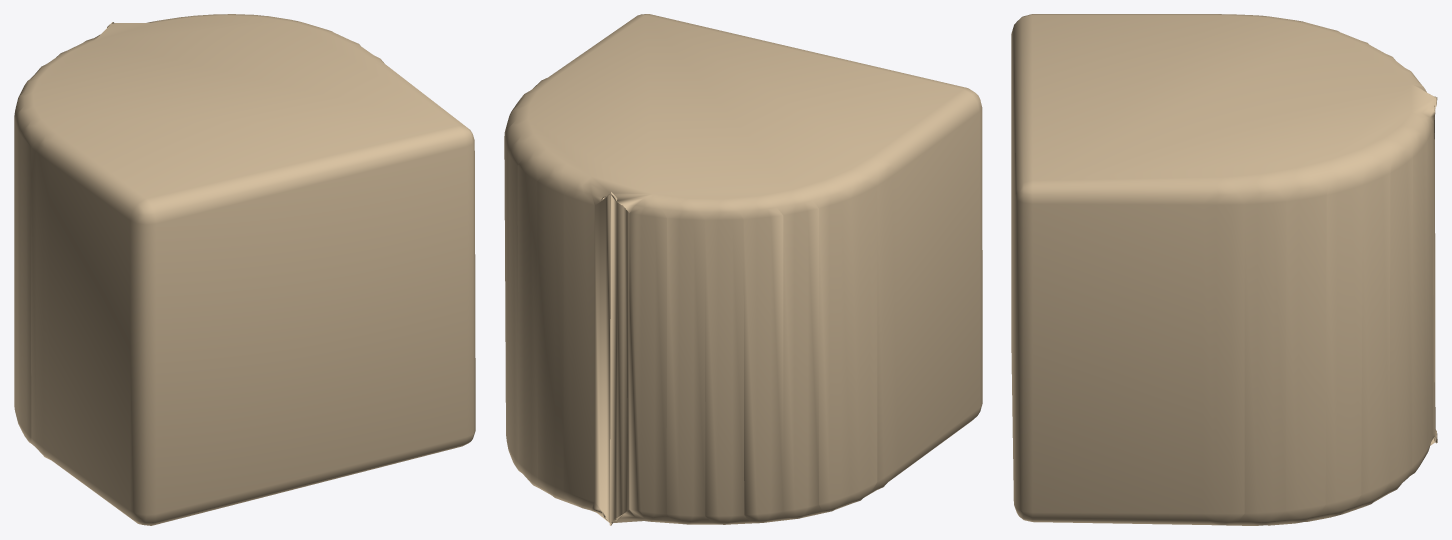
Rendered from ABSCHLUSS_WAND.glb.
3 renders of one model, left to right at view 1: azimuth 30°, elevation 25°; view 2: azimuth 150°, elevation 25°; view 3: azimuth 270°, elevation 25°, orthographic. The views are drawn at different scales.
Visible parts, largest first — view 1: ABSCHLUSS_WAND; view 2: ABSCHLUSS_WAND; view 3: ABSCHLUSS_WAND.
Part boxes in pixels (left/top/right/bottom): ABSCHLUSS_WAND: left=14, top=14, right=475, bottom=525; ABSCHLUSS_WAND: left=504, top=14, right=982, bottom=525; ABSCHLUSS_WAND: left=1011, top=14, right=1437, bottom=525.
Size of the model in its own units: 0.7989 by 0.7397 by 0.8032.
